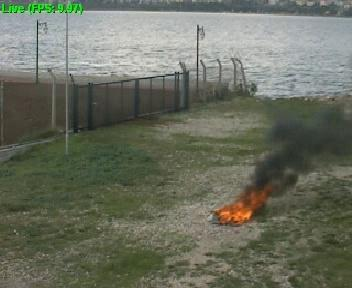fire: (215, 198, 256, 222)
smoke: (276, 109, 352, 164), (250, 163, 290, 191)
